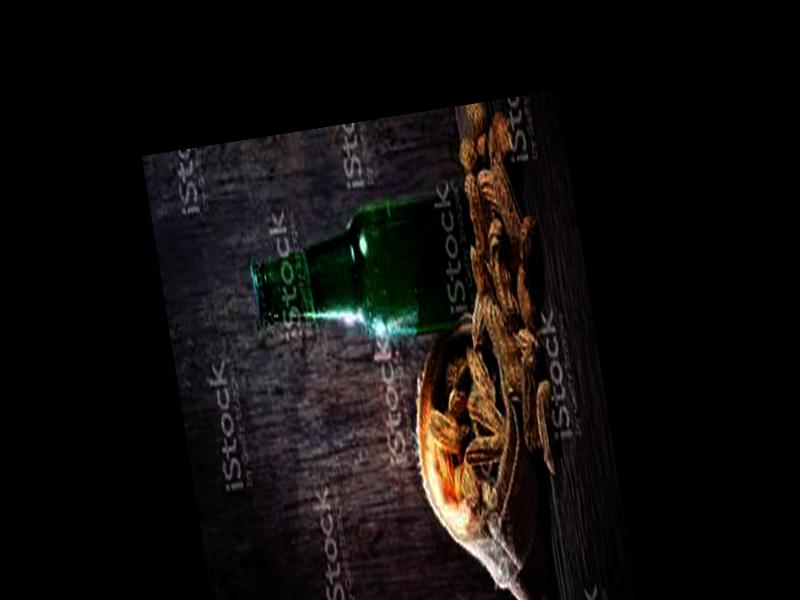Beer: (241, 188, 504, 362)
